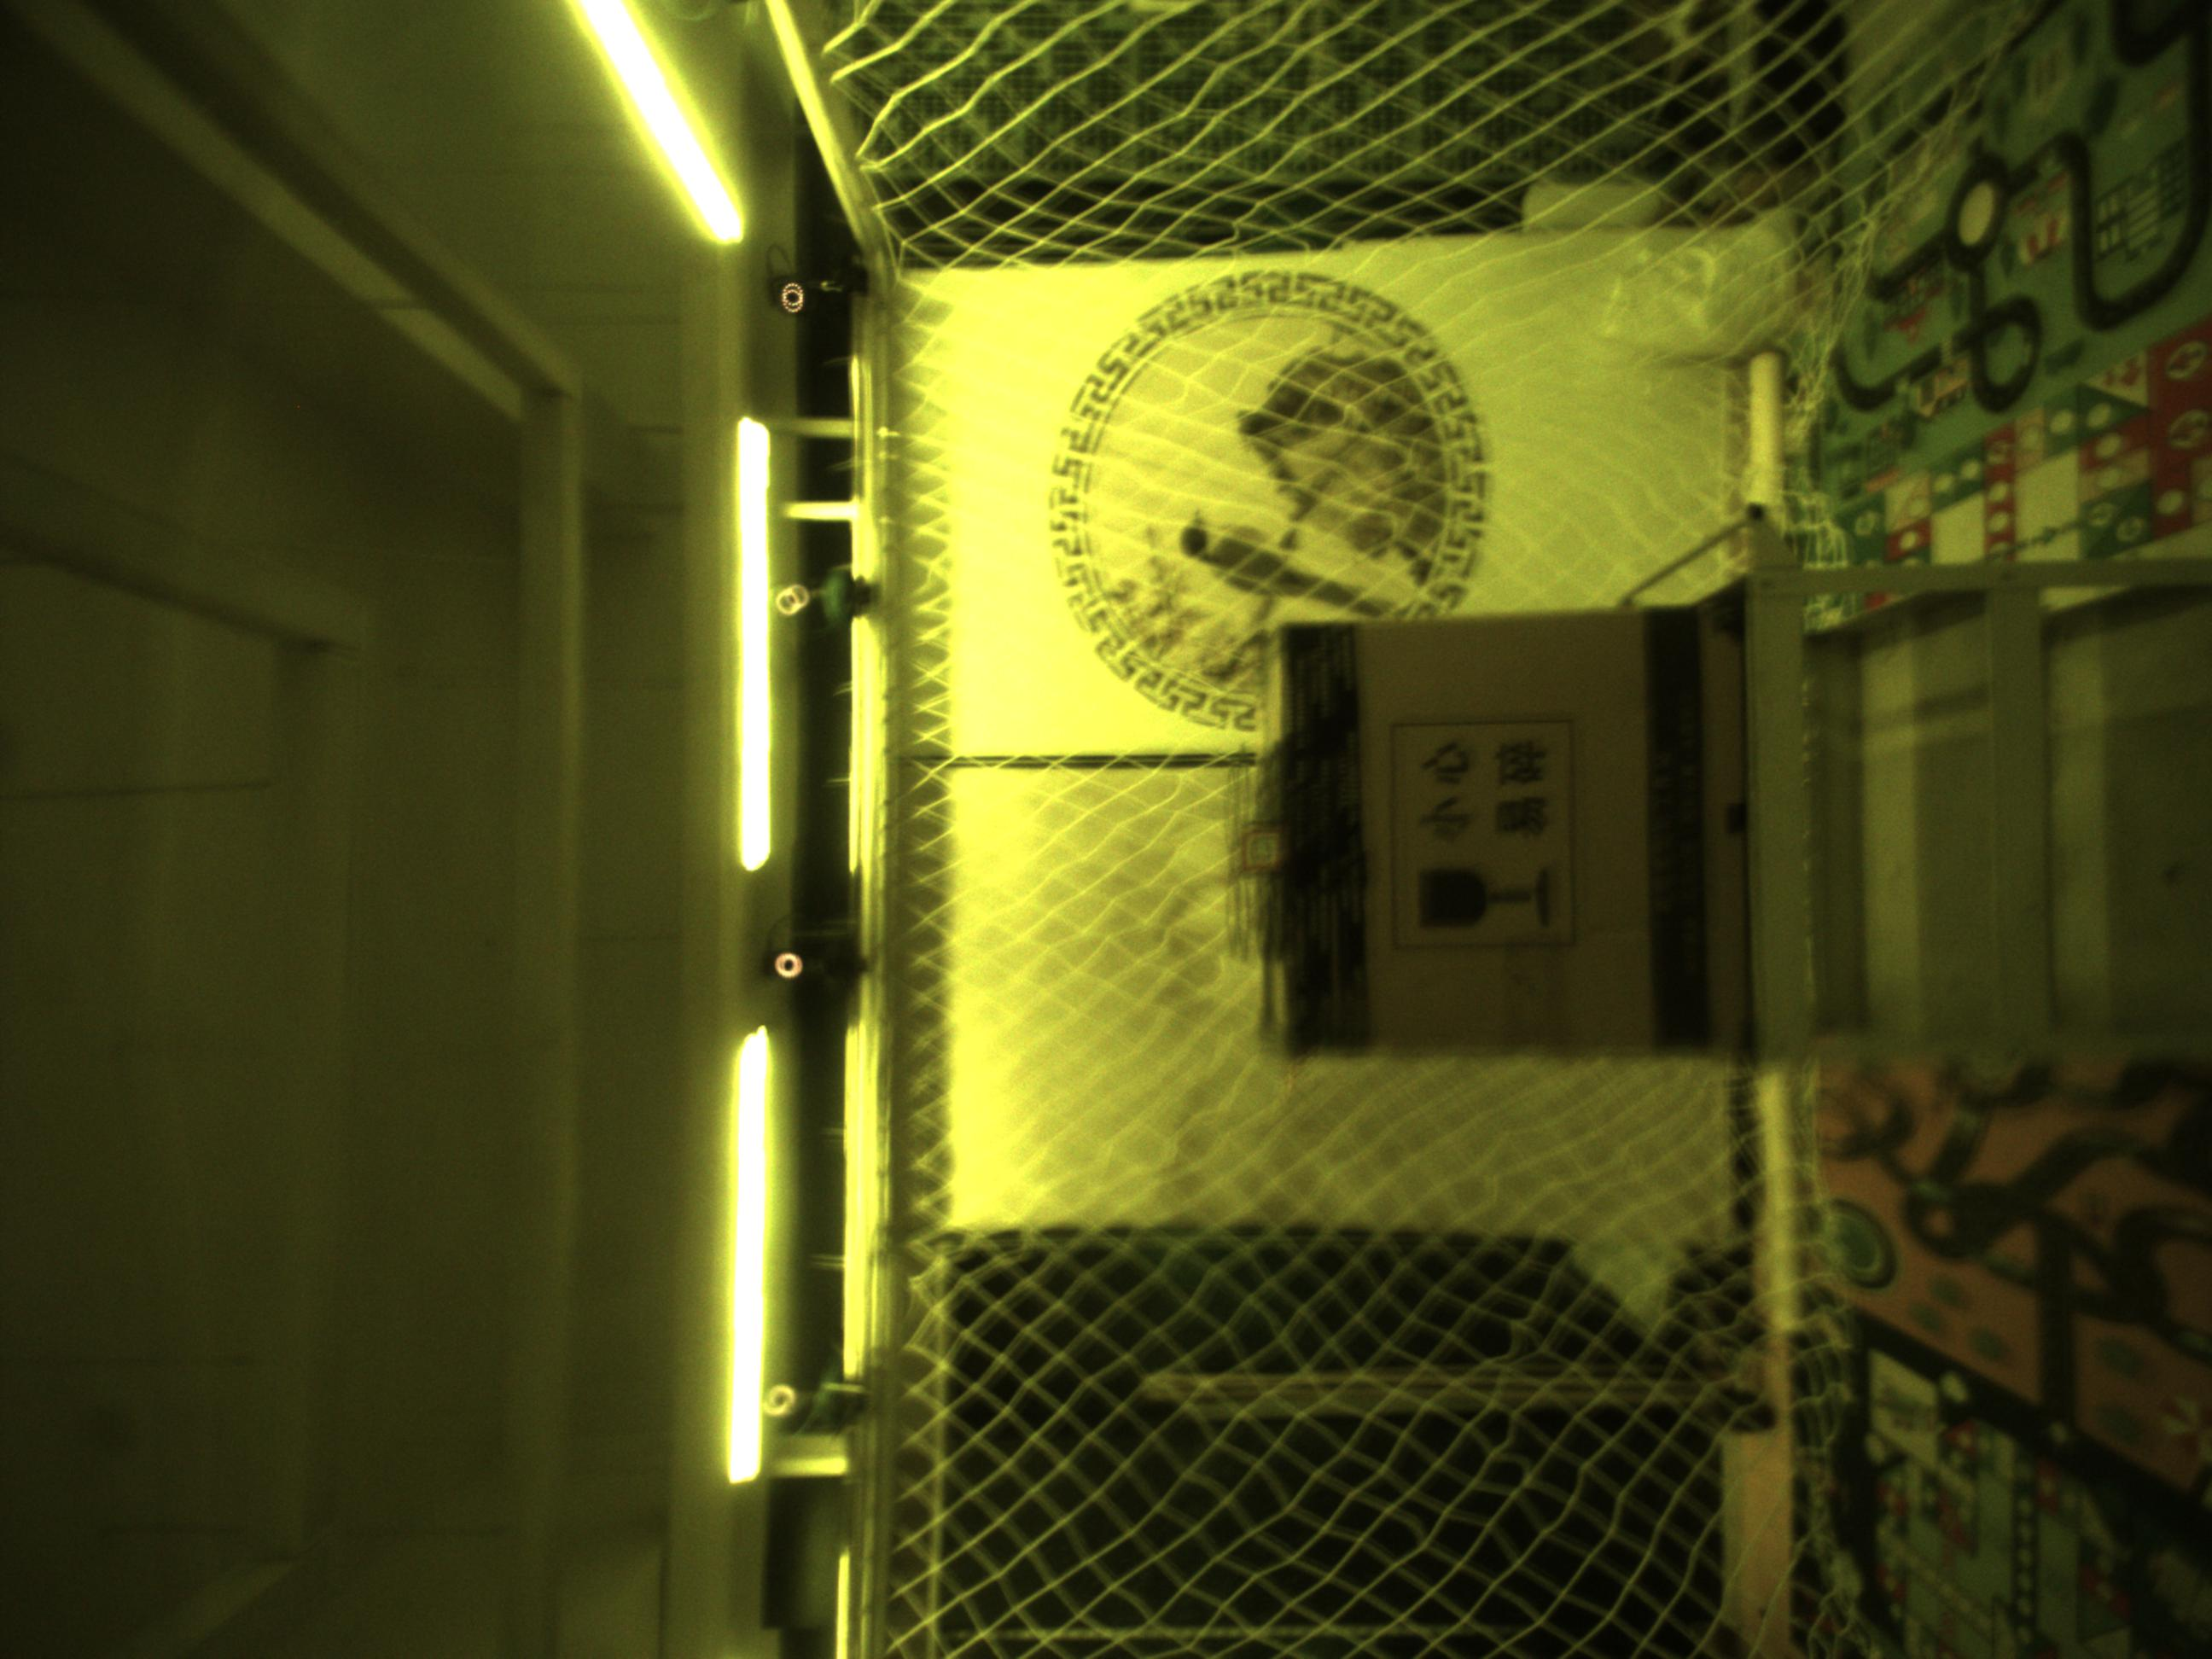outline: (1242, 829, 1284, 871)
